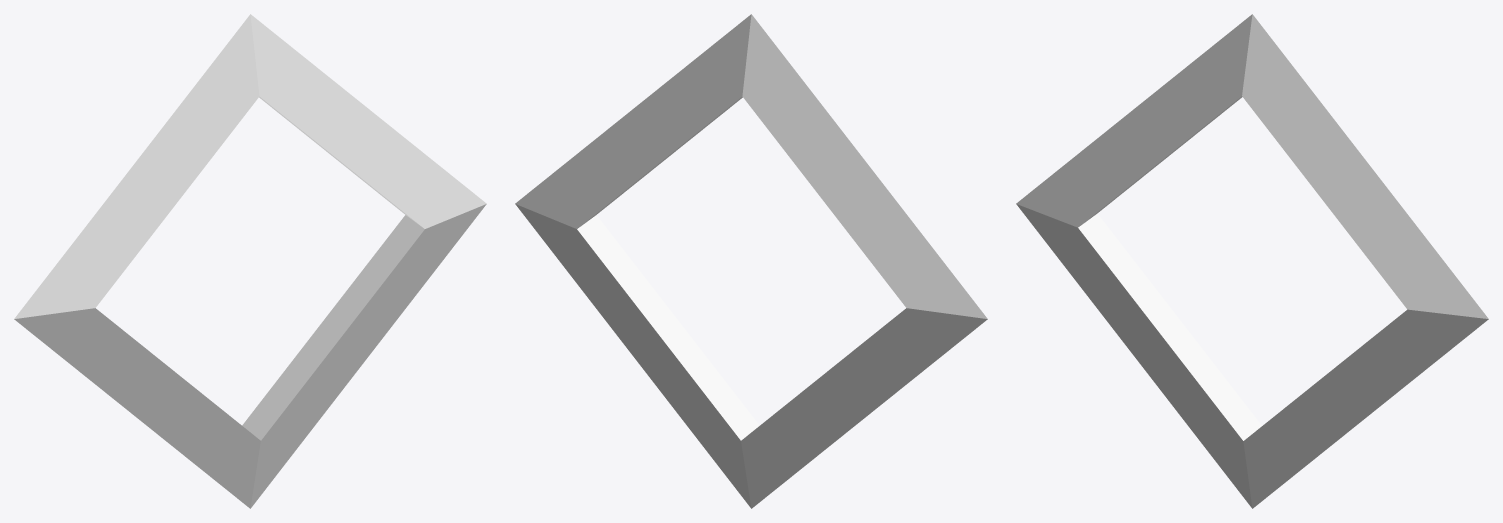
The model's file is core.obj.
The picture shows the model from 3 angles, left to right: view 1: azimuth 30°, elevation 25°; view 2: azimuth 150°, elevation 25°; view 3: azimuth 330°, elevation 25°; orthographic projection.
Parts seen in each view (by area): view 1: core_立方体; view 2: core_立方体; view 3: core_立方体.
Part boxes in pixels (x1,y1,x2,y2): core_立方体: (14, 14, 486, 508); core_立方体: (515, 14, 987, 508); core_立方体: (1016, 14, 1488, 508).
Bounding box in the file's own units: 2.83 × 2.83 × 0.2027.
1 material, 1 textured.
